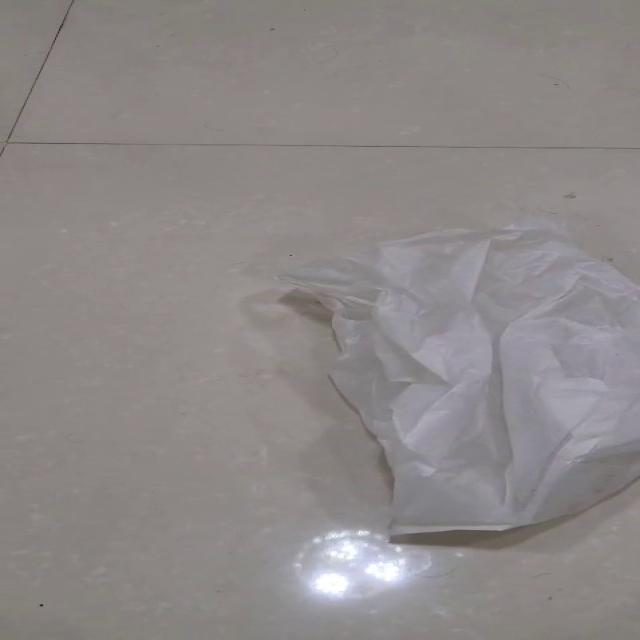plastic: (273, 218, 639, 538)
